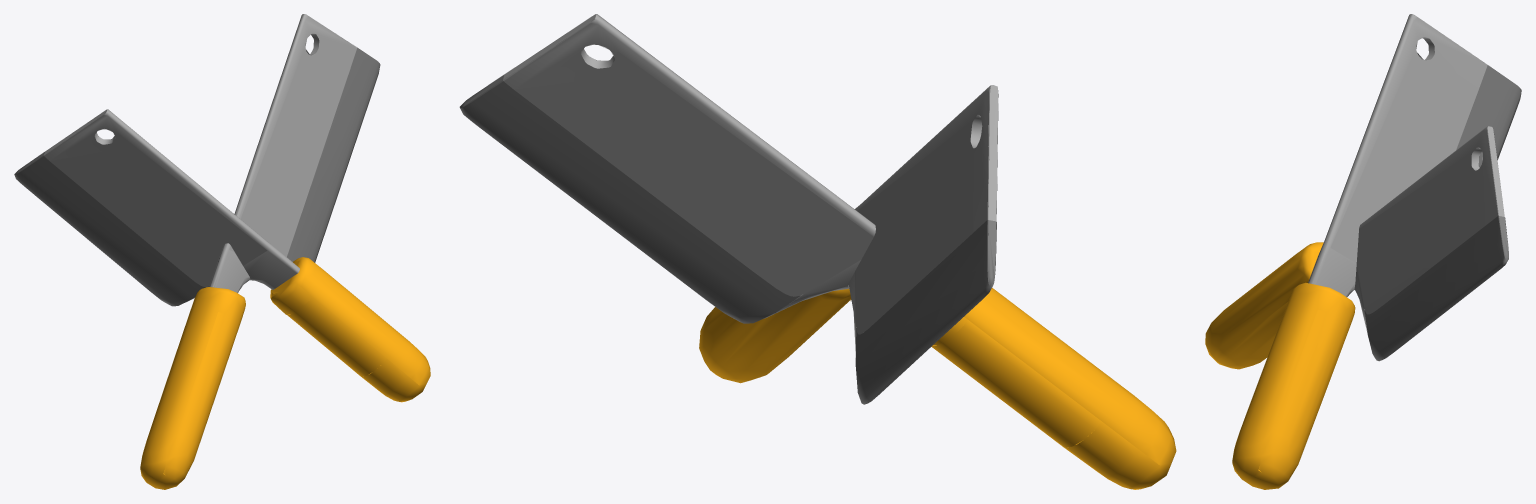
Rendered from knife-final.glb.
3 renders of one model, left to right at view 1: azimuth 30°, elevation 25°; view 2: azimuth 150°, elevation 25°; view 3: azimuth 270°, elevation 25°, orthographic. The views are drawn at different scales.
Visible parts, largest first — view 1: Plane.001ss.001; view 2: Plane.001ss.001; view 3: Plane.001ss.001.
Boxes of the visible parts, x1=… form: Plane.001ss.001: x1=14, y1=14, x2=430, y2=489; Plane.001ss.001: x1=459, y1=14, x2=1176, y2=489; Plane.001ss.001: x1=1205, y1=14, x2=1521, y2=489.
Bounding box in the file's own units: 3.39 × 2.98 × 2.24.
